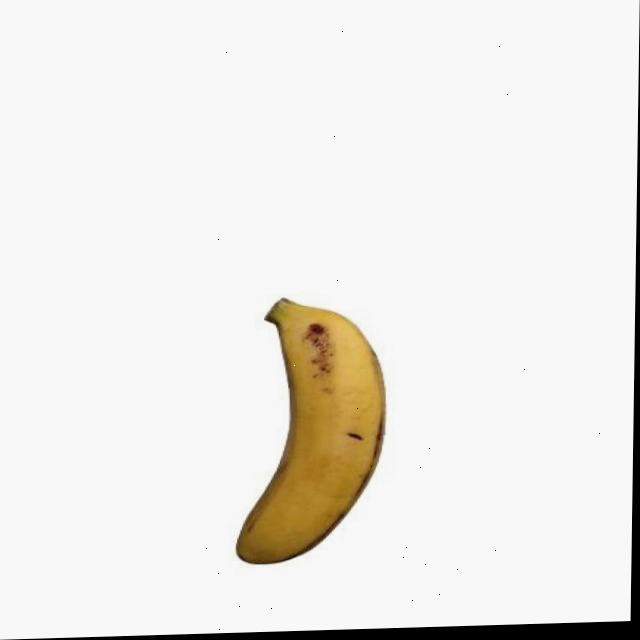banana: (236, 292, 390, 569)
